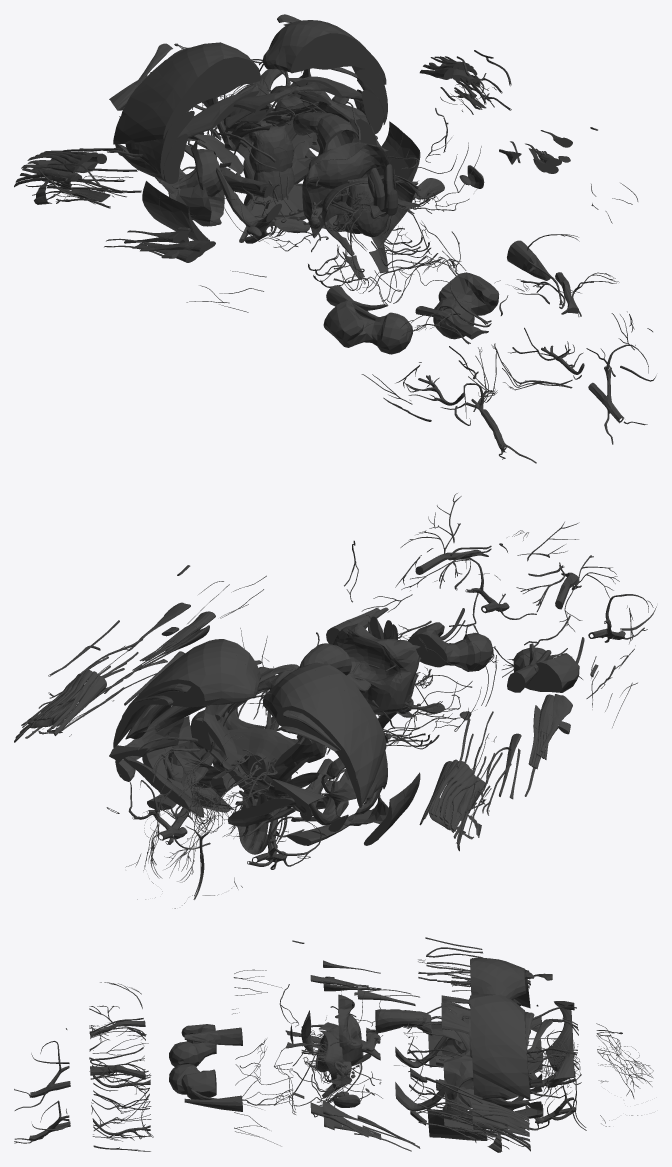
Rendered from sharedassets109.glb.
The picture shows the model from 3 angles, top to bottom: view 1: azimuth 30°, elevation 25°; view 2: azimuth 150°, elevation 25°; view 3: azimuth 270°, elevation 25°; orthographic projection. The views are drawn at different scales.
Visible parts, largest first — view 1: 0459_Gluteus maximus, R__1000191-01, 0471_Gluteus maximus, L__1000190-01, 0324_Peritoneum__300016-01, 0616_Gluteus maximus, R__1000191-03, 0335_Gluteus maximus, R__1000191-02, 0898_Femur _thigh_, R__000930-02, 0465_Piriformis, R__1000317-01, 0462_Gluteus medius, R__1000193-01, 0895_Femur _thigh_, L__000854-02, 0950_Bladder, body, R half_Female_300024-02, 1095_Femur _thigh_, L__000854-03, 0327_Rectum__001299-01 (+9 smaller); view 2: 0616_Gluteus maximus, R__1000191-03, 0640_Gluteus maximus, L__1000190-03, 0324_Peritoneum__300016-01, 0335_Gluteus maximus, R__1000191-02, 1095_Femur _thigh_, L__000854-03, 1096_Femur _thigh_, R__000930-03, 1093_Rectovaginal fascia_female_300014-03, 0459_Gluteus maximus, R__1000191-01, 0359_Gluteus maximus, L__1000190-02, 0649_Obturator externus, L__1000286-03, 0652_Obturator internus, L__1000288-03, 0622_Obturator externus, R__1000287-03 (+8 smaller); view 3: 0640_Gluteus maximus, L__1000190-03, 0359_Gluteus maximus, L__1000190-02, 0471_Gluteus maximus, L__1000190-01, 0324_Peritoneum__300016-01, 0616_Gluteus maximus, R__1000191-03, 0622_Obturator externus, R__1000287-03, 1095_Femur _thigh_, L__000854-03, 0335_Gluteus maximus, R__1000191-02, 0595_Iliococcygeus _part of levator ani_, L__, 1096_Femur _thigh_, R__000930-03, 0459_Gluteus maximus, R__1000191-01, 0895_Femur _thigh_, L__000854-02 (+9 smaller).
Part boxes in pixels (x1,y1,x2,y2): 0459_Gluteus maximus, R__1000191-01: [147, 49, 261, 140]; 0471_Gluteus maximus, L__1000190-01: [272, 25, 386, 84]; 0324_Peritoneum__300016-01: [302, 142, 389, 231]; 0616_Gluteus maximus, R__1000191-03: [113, 42, 220, 144]; 0335_Gluteus maximus, R__1000191-02: [131, 42, 254, 142]; 0898_Femur _thigh_, R__000930-02: [336, 312, 412, 354]; 0465_Piriformis, R__1000317-01: [177, 85, 259, 138]; 0462_Gluteus medius, R__1000193-01: [143, 111, 194, 178]; 0895_Femur _thigh_, L__000854-02: [433, 283, 499, 338]; 0950_Bladder, body, R half_Female_300024-02: [346, 179, 376, 237]; 1095_Femur _thigh_, L__000854-03: [438, 272, 495, 315]; 0327_Rectum__001299-01: [319, 118, 356, 151]; 0616_Gluteus maximus, R__1000191-03: [263, 679, 372, 807]; 0640_Gluteus maximus, L__1000190-03: [113, 657, 245, 747]; 0324_Peritoneum__300016-01: [333, 623, 418, 714]; 0335_Gluteus maximus, R__1000191-02: [262, 669, 379, 784]; 1095_Femur _thigh_, L__000854-03: [408, 624, 480, 671]; 1096_Femur _thigh_, R__000930-03: [514, 654, 578, 692]; 1093_Rectovaginal fascia_female_300014-03: [228, 728, 295, 763]; 0459_Gluteus maximus, R__1000191-01: [286, 662, 386, 765]; 0359_Gluteus maximus, L__1000190-02: [133, 645, 257, 724]; 0649_Obturator externus, L__1000286-03: [123, 756, 203, 817]; 0652_Obturator internus, L__1000288-03: [202, 704, 245, 761]; 0622_Obturator externus, R__1000287-03: [227, 798, 316, 826]; 0640_Gluteus maximus, L__1000190-03: [502, 995, 530, 1100]; 0359_Gluteus maximus, L__1000190-02: [485, 994, 507, 1090]; 0471_Gluteus maximus, L__1000190-01: [470, 994, 490, 1081]; 0324_Peritoneum__300016-01: [338, 994, 360, 1065]; 0616_Gluteus maximus, R__1000191-03: [502, 960, 530, 1008]; 0622_Obturator externus, R__1000287-03: [552, 1006, 573, 1071]; 1095_Femur _thigh_, L__000854-03: [193, 1065, 216, 1099]; 0335_Gluteus maximus, R__1000191-02: [485, 958, 503, 995]; 0595_Iliococcygeus _part of levator ani_, L__: [320, 1030, 345, 1092]; 1096_Femur _thigh_, R__000930-03: [192, 1024, 216, 1066]; 0459_Gluteus maximus, R__1000191-01: [470, 957, 486, 995]; 0895_Femur _thigh_, L__000854-02: [177, 1064, 195, 1099].
Size of the model in its own units: 0.2816 by 0.1332 by 0.4603.
1 material, 1 textured.
